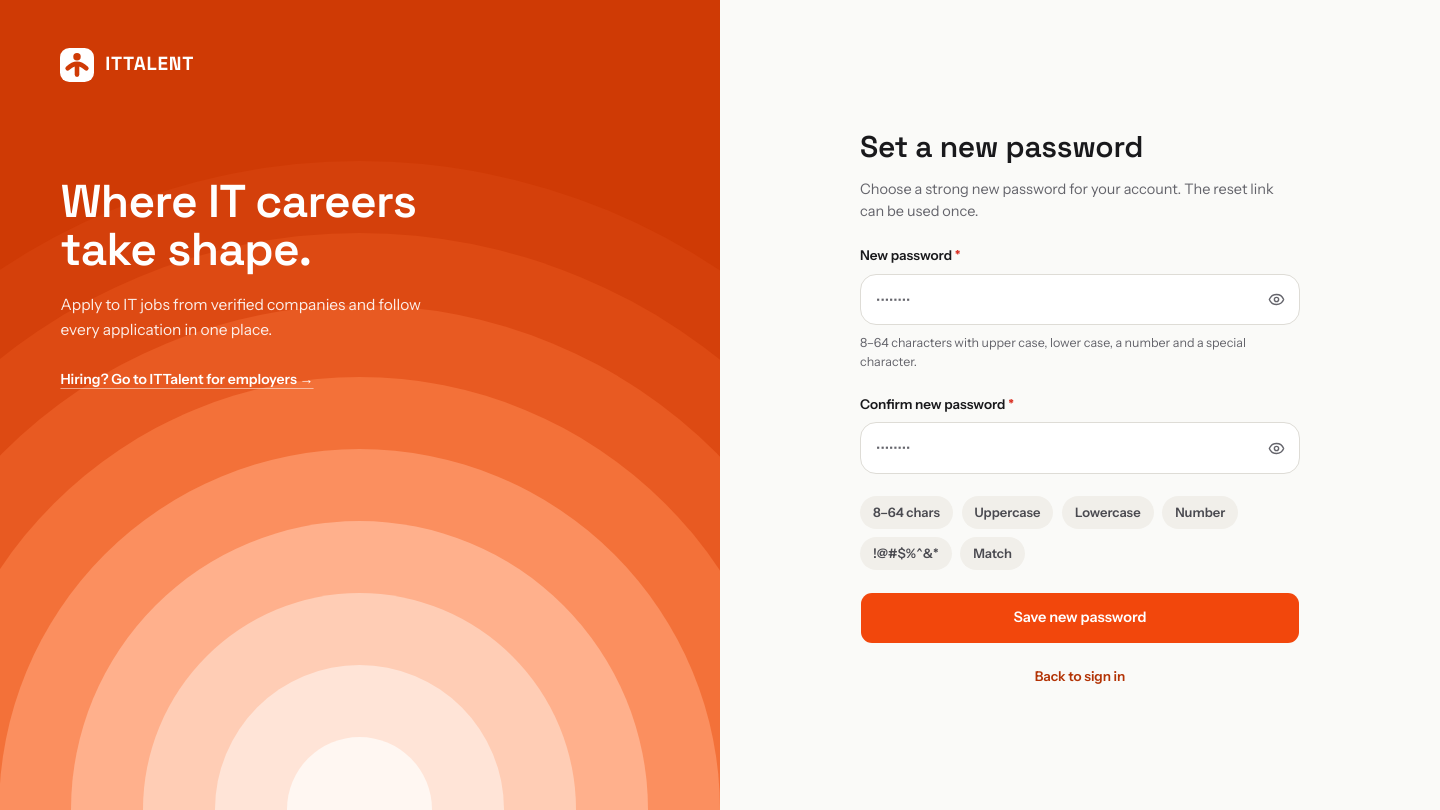
Test: ResetPasswordPage › resets the password when a valid token is present
In the password field labelled "New password *": (1080, 300) [860, 274, 1300, 325], type "Password123!"
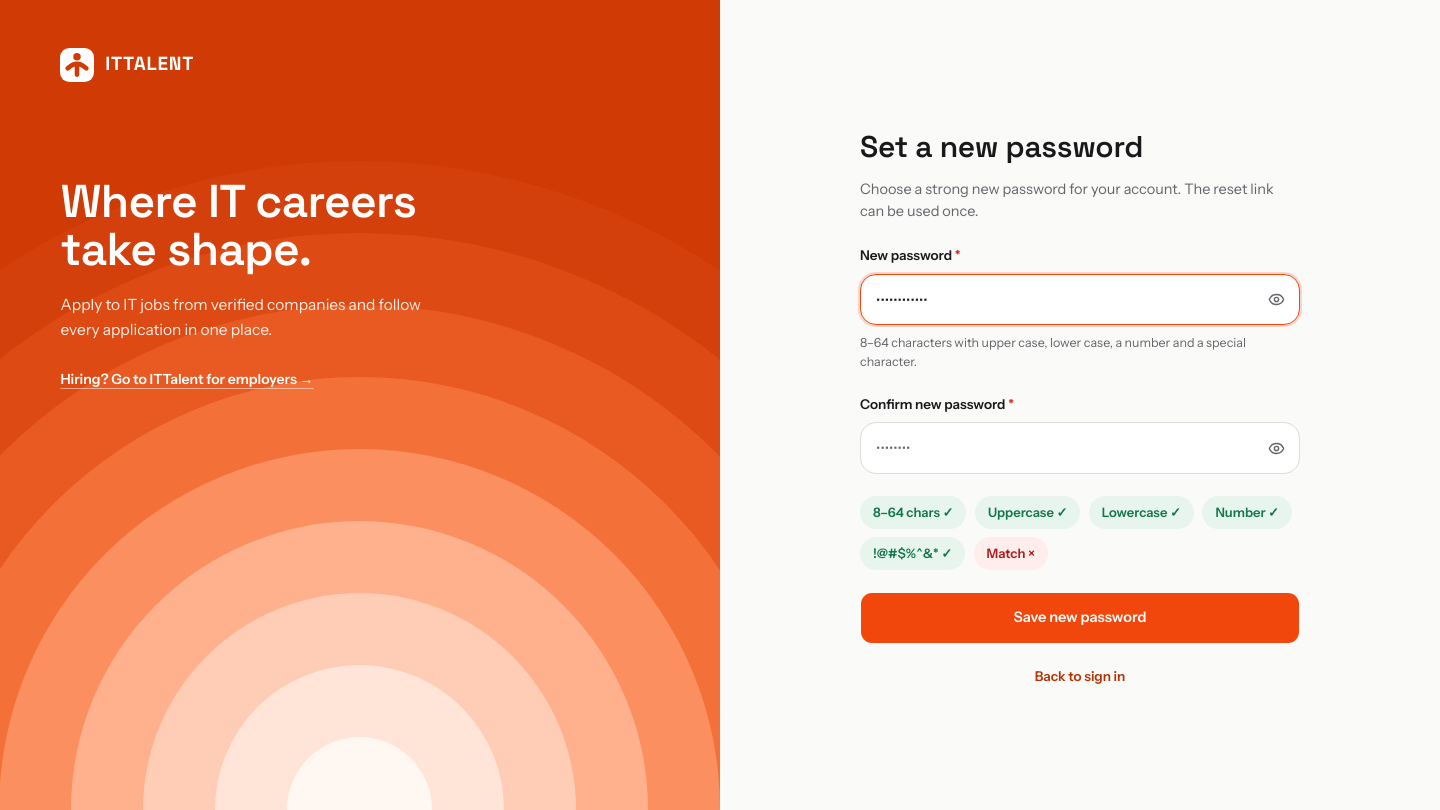
In the password field labelled "Confirm new password *": (1080, 448) [860, 422, 1300, 474], type "Password123!"
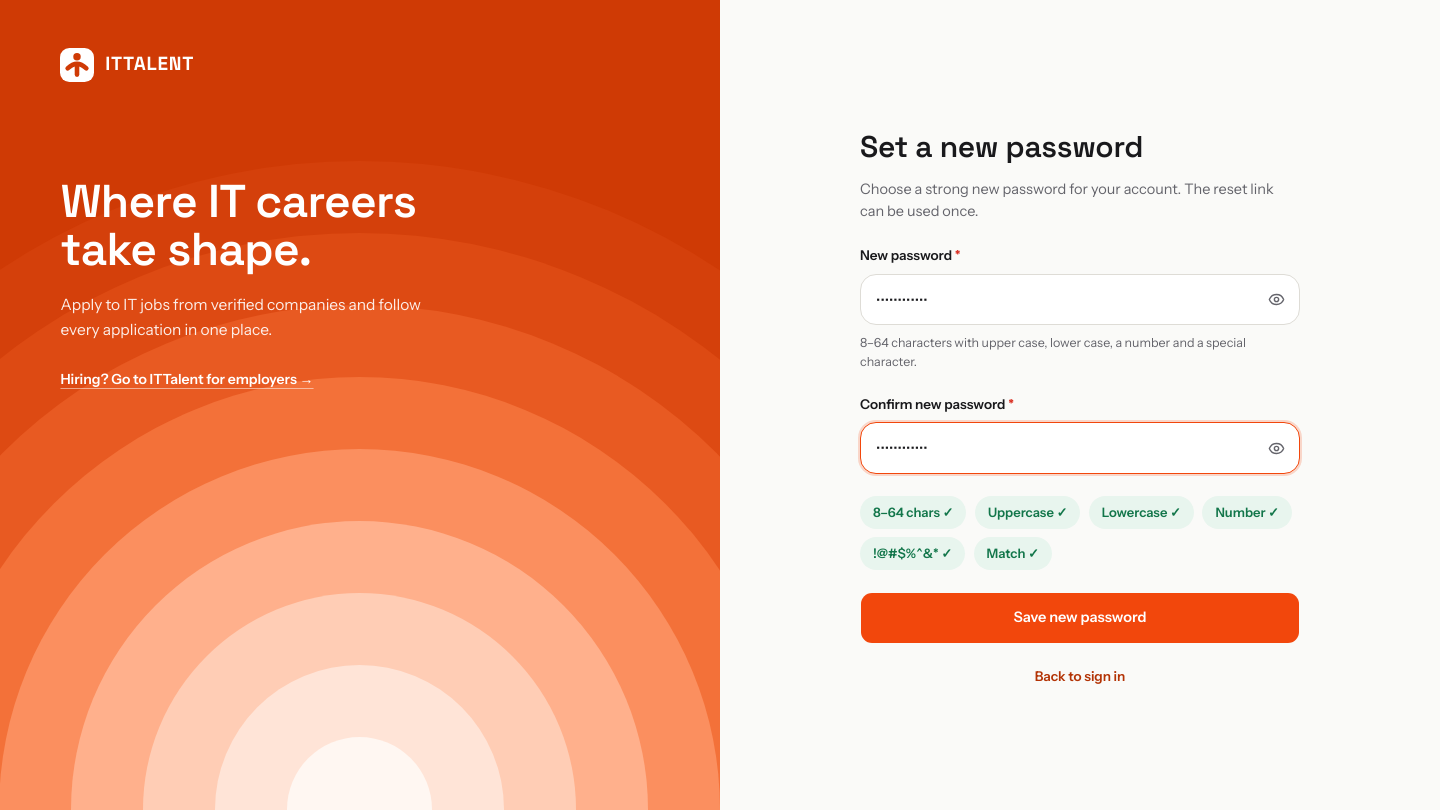
Click the button "Save new password": (1080, 618) [860, 592, 1300, 644]
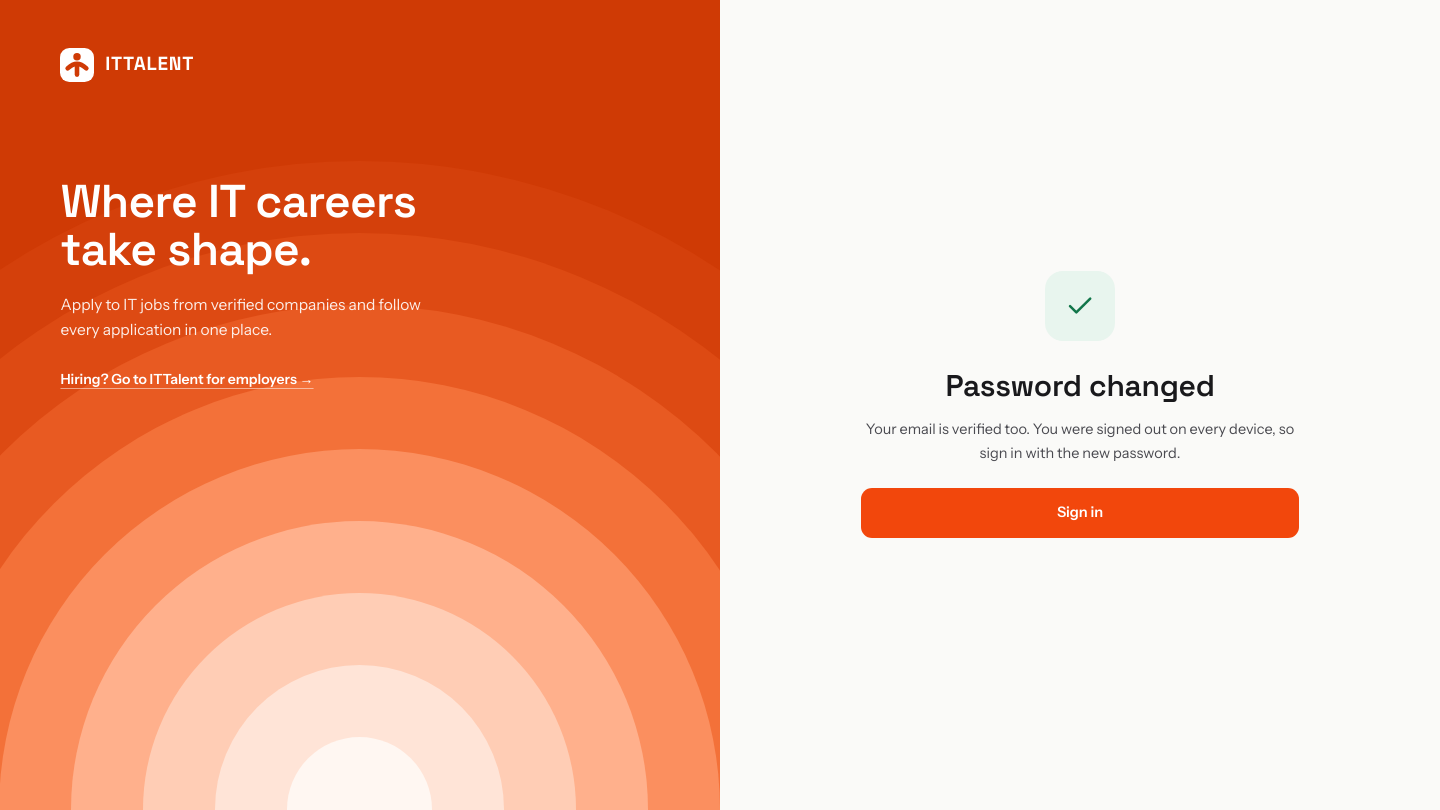
Now the heading "Password changed" is shown, box [945, 366, 1215, 404]
